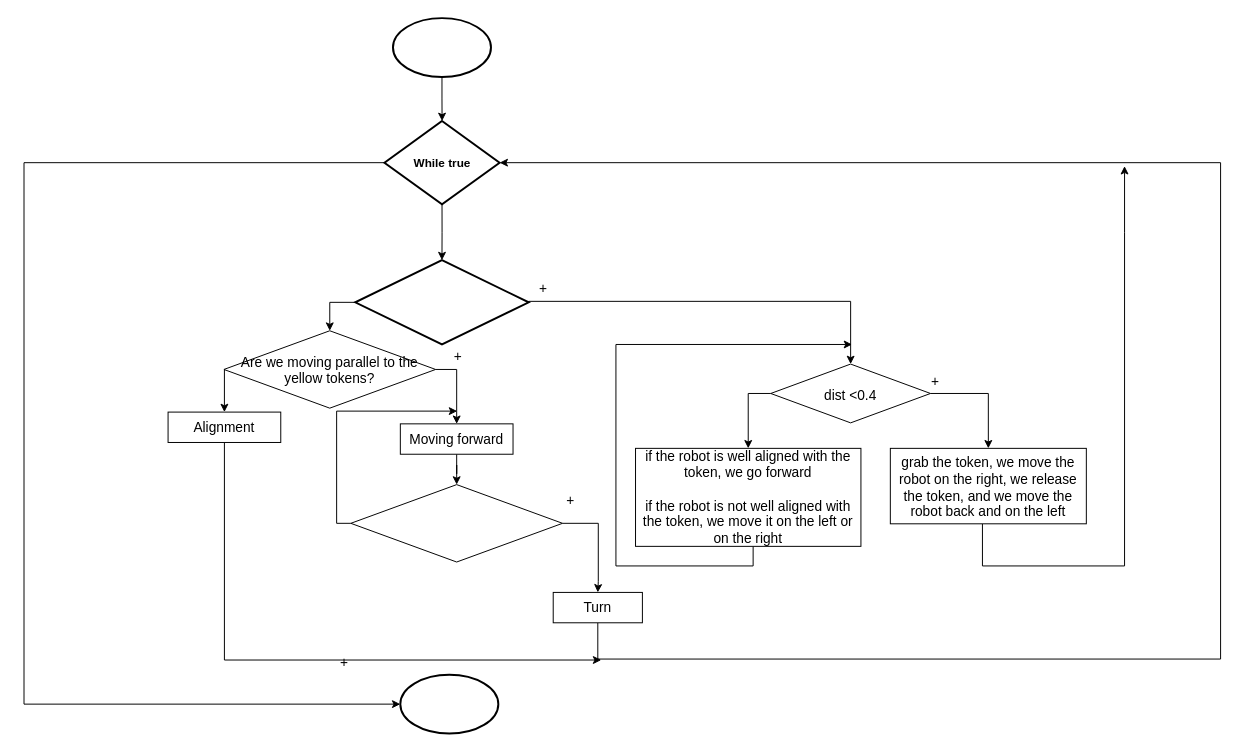
Some shapes in this 1246 by 751 pixel diagram are drawn without their labels. Each missing label, with the centre of its shape:
"Have you approached the front wall at a distance of 0.75 - 1.25?" belongs at point (456, 523).
"Is the gray token visible?" belongs at point (441, 302).
"START" belongs at point (441, 47).
"STOP" belongs at point (449, 703).
